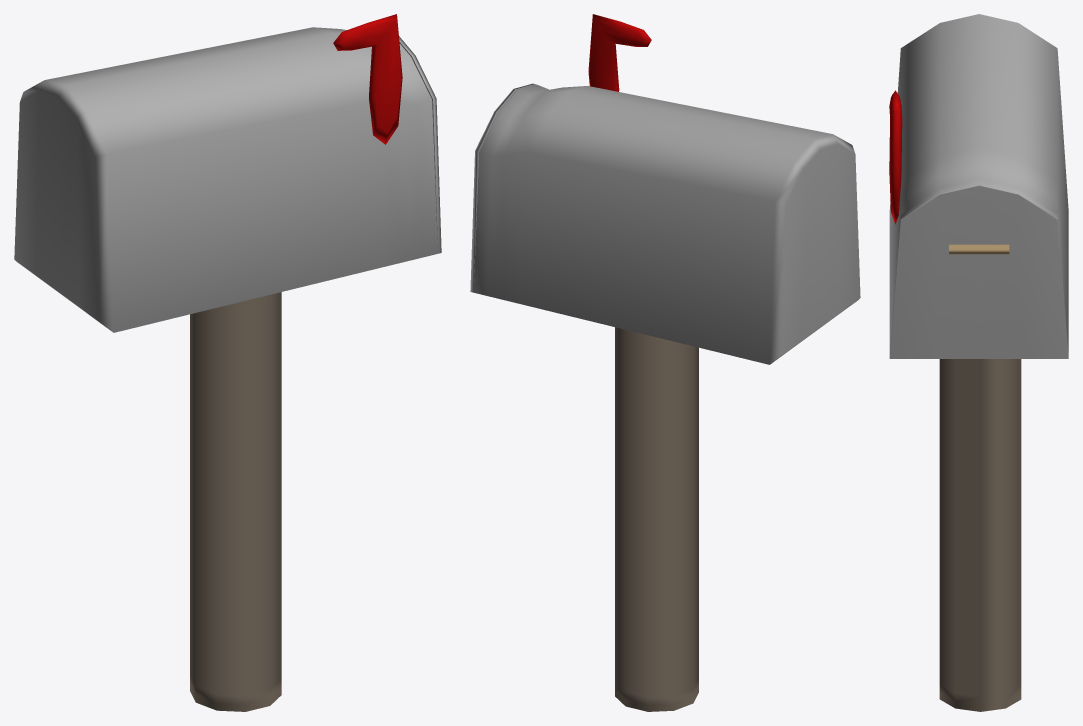
The model's file is Mailbox1_v2.fbx.
3 renders of one model, left to right at view 1: azimuth 30°, elevation 25°; view 2: azimuth 150°, elevation 25°; view 3: azimuth 270°, elevation 25°, orthographic. The views are drawn at different scales.
Visible parts, largest first — view 1: polySurface4; view 2: polySurface4; view 3: polySurface4.
Boxes of the visible parts, box(x1,y1,x2,y2) form: polySurface4: box(14, 14, 441, 711); polySurface4: box(470, 14, 860, 711); polySurface4: box(889, 14, 1068, 711).
Bounding box in the file's own units: 1.31 × 2.49 × 0.6366.
